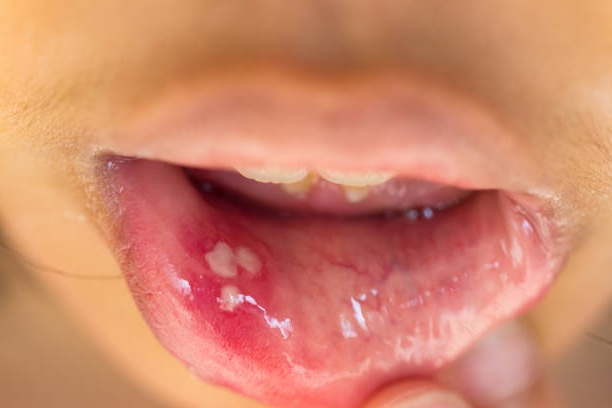Ulcer: (198, 234, 273, 312)
